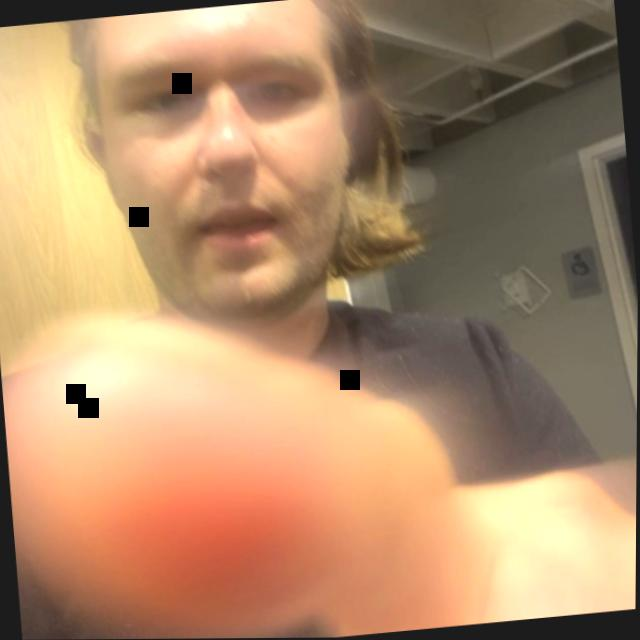NO-Mask: (62, 0, 428, 328)
